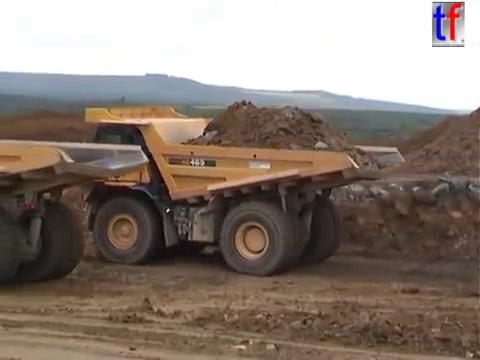truck: (57, 104, 406, 277), (1, 137, 153, 286)
